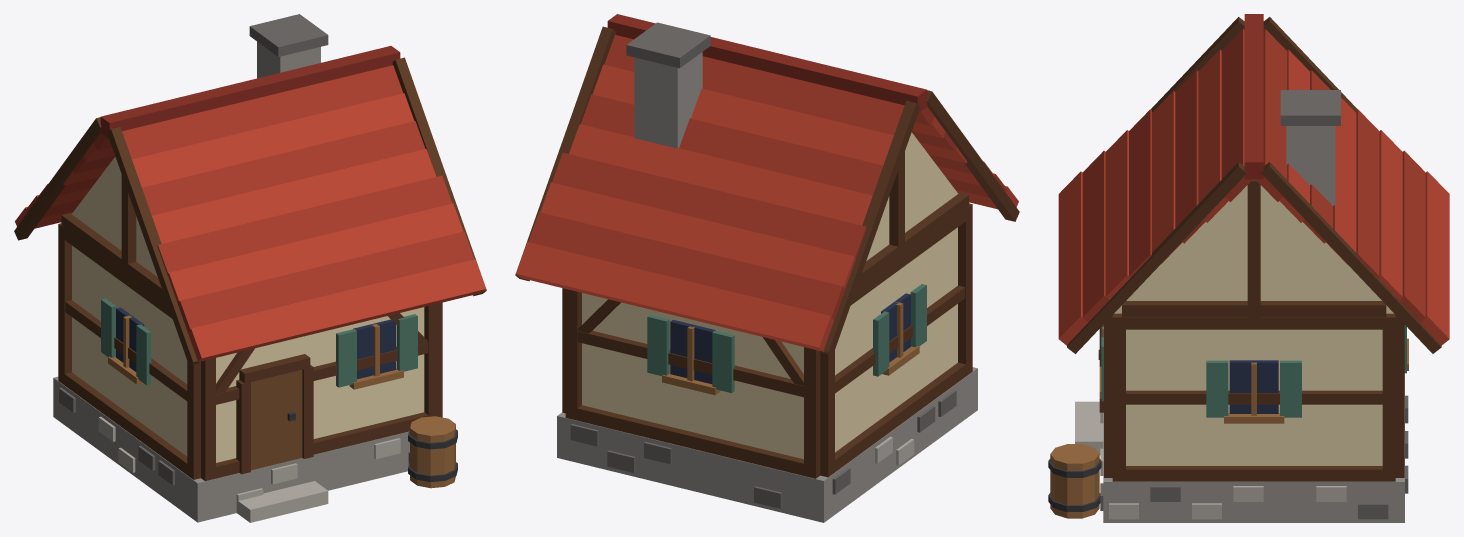
Rendered from house.glb.
3 renders of one model, left to right at view 1: azimuth 30°, elevation 25°; view 2: azimuth 150°, elevation 25°; view 3: azimuth 270°, elevation 25°, orthographic. The views are drawn at different scales.
Parts seen in each view (by area): view 1: roof_red, roof_red_mid, timber, plaster, stone, ridge, door, plank, shutter, stone_light, stone_dark, window (+1 smaller); view 2: roof_red, roof_red_mid, timber, plaster, stone, stone_dark, ridge, shutter, window, plank, stone_light; view 3: plaster, timber, roof_red, roof_red_mid, stone, plank, stone_dark, stone_light, ridge, shutter, window, iron.
Boxes of the visible parts, <box> form: roof_red: <box>15,93,485,362</box>; roof_red_mid: <box>26,65,474,331</box>; timber: <box>14,57,486,481</box>; plaster: <box>72,156,424,462</box>; stone: <box>53,41,409,522</box>; ridge: <box>100,46,400,138</box>; door: <box>251,370,302,470</box>; plank: <box>108,315,455,488</box>; shutter: <box>101,298,417,387</box>; stone_light: <box>98,416,400,522</box>; stone_dark: <box>59,14,409,485</box>; window: <box>116,307,396,379</box>; roof_red: <box>516,64,1018,351</box>; roof_red_mid: <box>528,35,1006,319</box>; timber: <box>515,26,1019,478</box>; plaster: <box>582,132,957,459</box>; stone: <box>557,52,977,522</box>; stone_dark: <box>570,22,956,508</box>; ridge: <box>607,14,927,113</box>; shutter: <box>647,284,926,393</box>; window: <box>670,293,910,384</box>; plank: <box>662,302,919,395</box>; stone_light: <box>875,436,914,465</box>; plaster: <box>1114,185,1393,465</box>; timber: <box>1067,17,1441,481</box>; roof_red: <box>1058,49,1449,345</box>; roof_red_mid: <box>1082,29,1425,322</box>; stone: <box>1103,126,1404,522</box>; plank: <box>1050,327,1408,518</box>; stone_dark: <box>1100,90,1408,519</box>; stone_light: <box>1075,401,1346,519</box>; ridge: <box>1244,14,1263,179</box>; shutter: <box>1101,324,1406,417</box>; window: <box>1229,360,1278,413</box>; iron: <box>1048,349,1101,511</box>.
Bounding box in the file's own units: 1.88 × 2.28 × 2.13.
